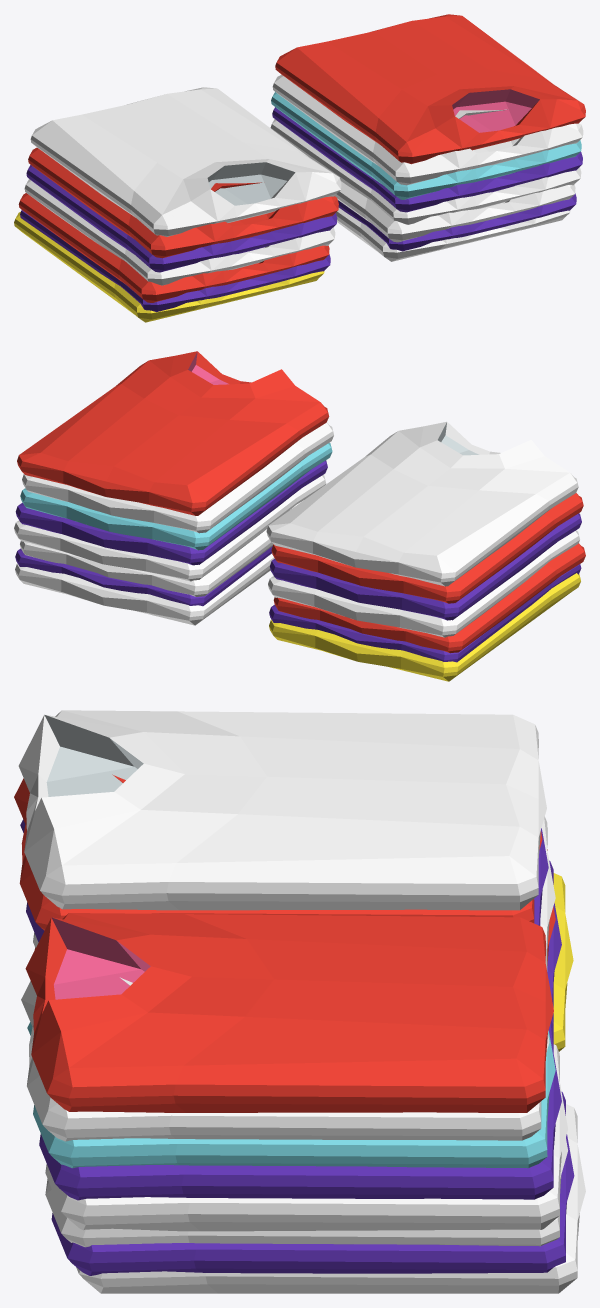
The model's file is shirts.glb.
The picture shows the model from 3 angles, top to bottom: view 1: azimuth 30°, elevation 25°; view 2: azimuth 150°, elevation 25°; view 3: azimuth 270°, elevation 25°; orthographic projection. The views are drawn at different scales.
Parts seen in each view (by area): view 1: group1851623675, group1822529495, group536945768, group50491121, group877140581, group1222512920, group102699622, group1481482069, group477484578, group622056156, group557985648, group783054016 (+3 smaller); view 2: group1851623675, group1822529495, group536945768, group50491121, group783054016, group1481482069, group877140581, group102699622, group1222512920, group622056156, group477484578, group226575992 (+3 smaller); view 3: group1822529495, group1851623675, group477484578, group622056156, group988438851, group536945768, group102699622, group226575992, group557985648, group50491121, group783054016, group1481482069 (+2 smaller).
Part boxes in pixels (<box>): group1851623675: <box>275,14,585,164</box>; group1822529495: <box>30,87,341,236</box>; group536945768: <box>272,74,583,185</box>; group50491121: <box>28,147,338,258</box>; group877140581: <box>18,193,329,302</box>; group1222512920: <box>26,165,337,272</box>; group102699622: <box>271,92,581,199</box>; group1481482069: <box>24,179,335,285</box>; group477484578: <box>272,107,582,212</box>; group622056156: <box>270,119,581,224</box>; group557985648: <box>335,181,575,242</box>; group783054016: <box>14,211,324,322</box>; group1851623675: <box>17,351,329,515</box>; group1822529495: <box>266,421,578,586</box>; group536945768: <box>22,422,333,533</box>; group50491121: <box>271,493,583,603</box>; group783054016: <box>269,573,580,681</box>; group1481482069: <box>268,530,579,637</box>; group877140581: <box>273,543,585,653</box>; group102699622: <box>20,443,332,550</box>; group1222512920: <box>270,513,581,620</box>; group622056156: <box>14,475,326,581</box>; group477484578: <box>15,460,327,565</box>; group226575992: <box>15,553,274,625</box>; group1822529495: <box>18,710,546,910</box>; group1851623675: <box>25,913,553,1112</box>; group477484578: <box>39,1021,561,1200</box>; group622056156: <box>45,1044,567,1231</box>; group988438851: <box>51,1092,574,1275</box>; group536945768: <box>21,977,549,1141</box>; group102699622: <box>27,1022,555,1168</box>; group226575992: <box>76,1104,585,1293</box>; group557985648: <box>45,1138,567,1247</box>; group50491121: <box>14,774,542,930</box>; group783054016: <box>553,873,573,1051</box>; group1481482069: <box>33,816,555,971</box>.
Bounding box in the file's own units: 1.54 × 0.474 × 0.9213.
